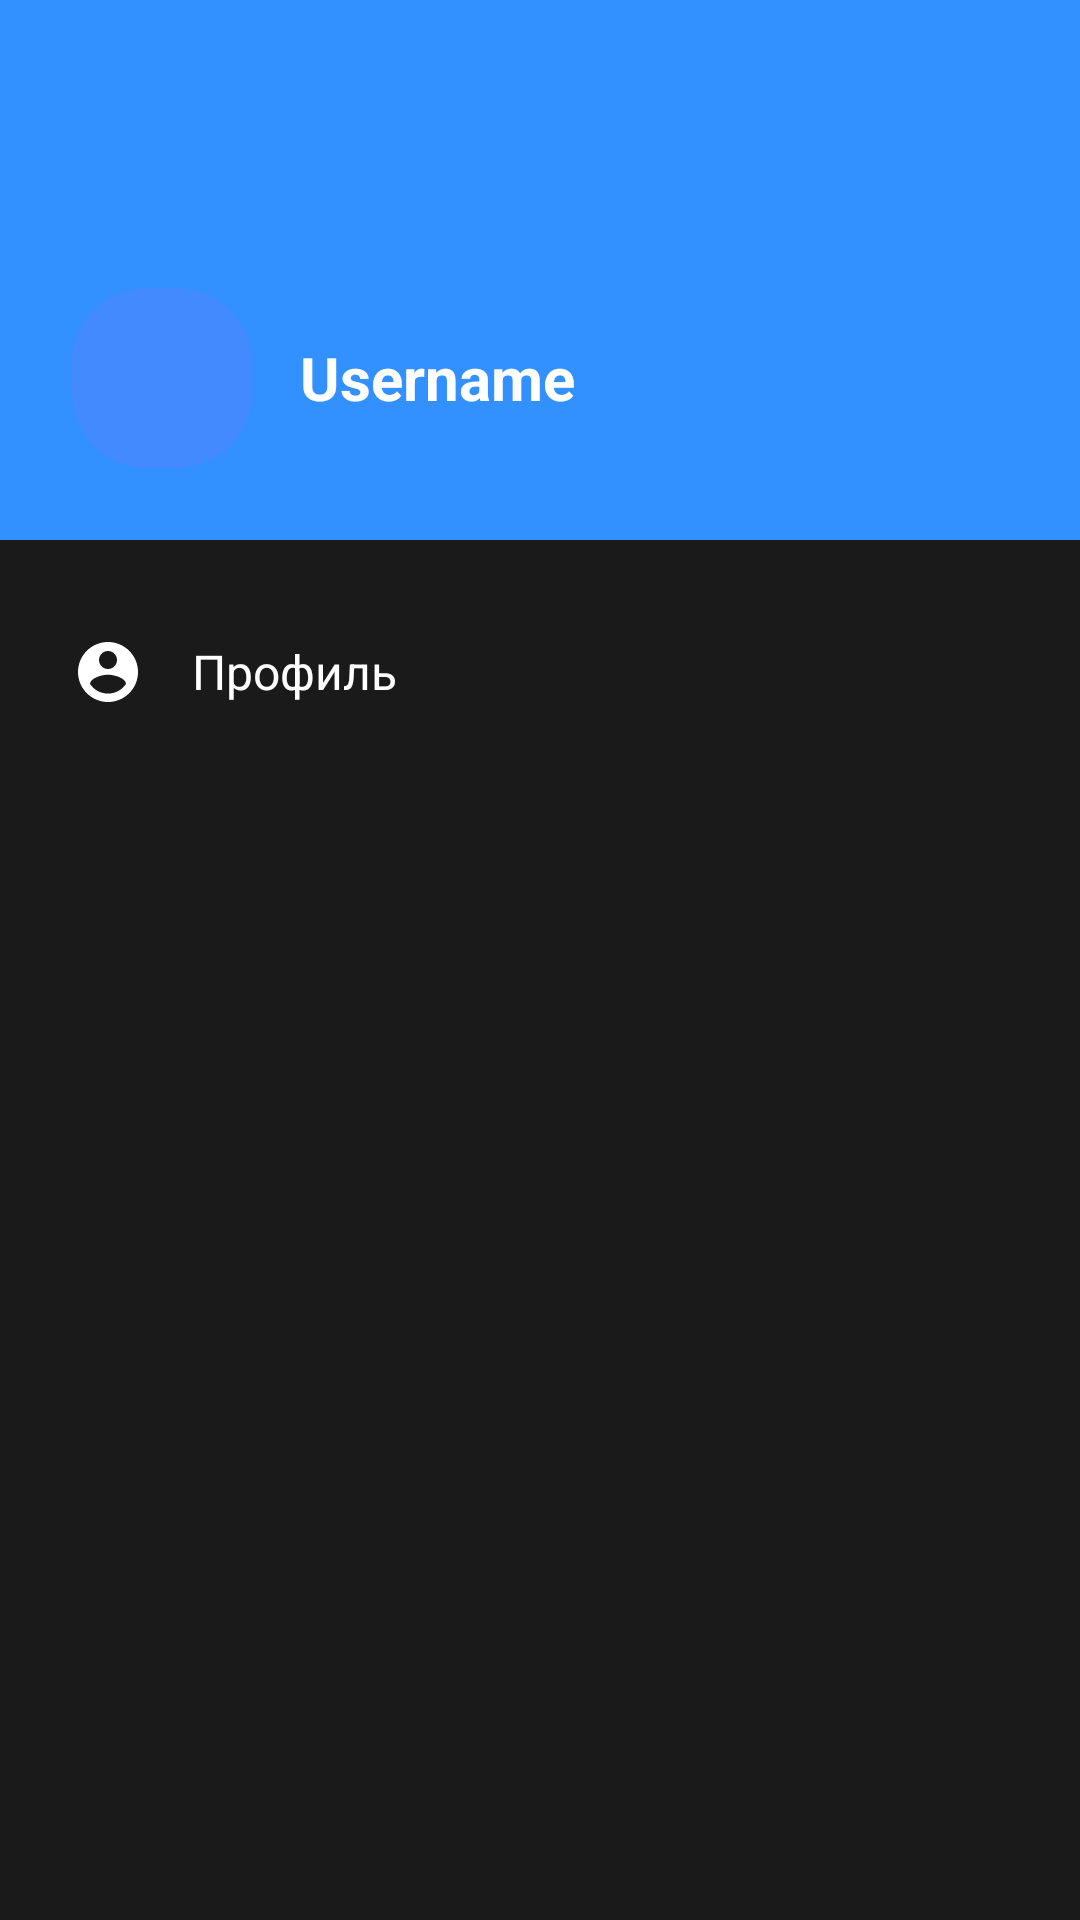

Screen size 1080px×1920px. Icon name, then its center in pixels as [x,y]:
profile: [108,672]
